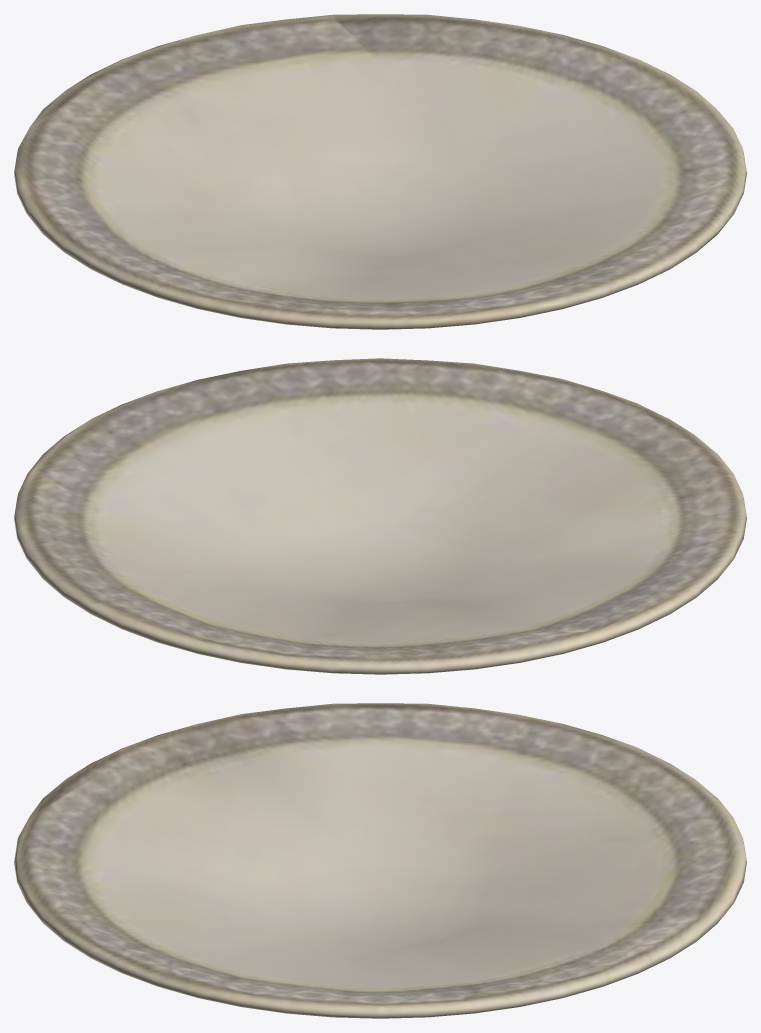
The model's file is cafe_plate.glb.
3 renders of one model, top to bottom at view 1: azimuth 30°, elevation 25°; view 2: azimuth 150°, elevation 25°; view 3: azimuth 270°, elevation 25°, orthographic.
Parts seen in each view (by area): view 1: tea_set_01_plate_large_circular_03; view 2: tea_set_01_plate_large_circular_03; view 3: tea_set_01_plate_large_circular_03.
Boxes of the visible parts, <box> form: tea_set_01_plate_large_circular_03: <box>14,14,746,329</box>; tea_set_01_plate_large_circular_03: <box>14,358,746,674</box>; tea_set_01_plate_large_circular_03: <box>14,703,746,1018</box>.
Size of the model in its own units: 0.1875 by 0.0176 by 0.1875.
Materials: 1 (1 with a texture image).
